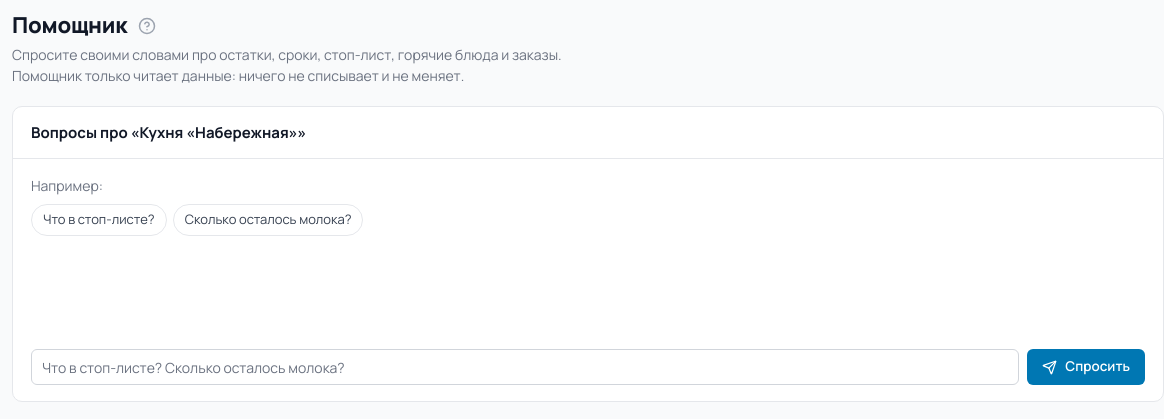
страница помощника › непонятый вопрос не помечается как разобранный
The width and height of the screenshot is (1164, 419).
In the field named "Вопрос помощнику": point(525, 367) [31,349,1019,385], type "расскажи анекдот"
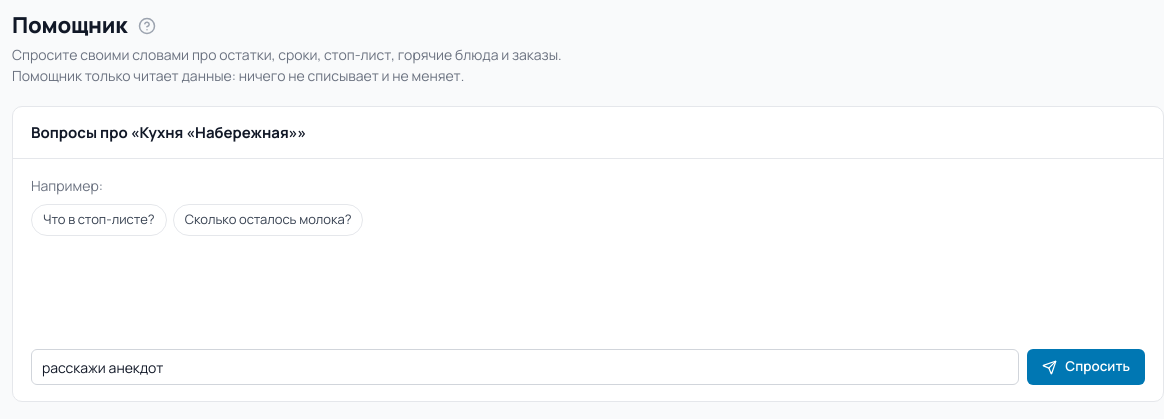
Click the button "Спросить": point(1086, 367) [1027,349,1145,385]
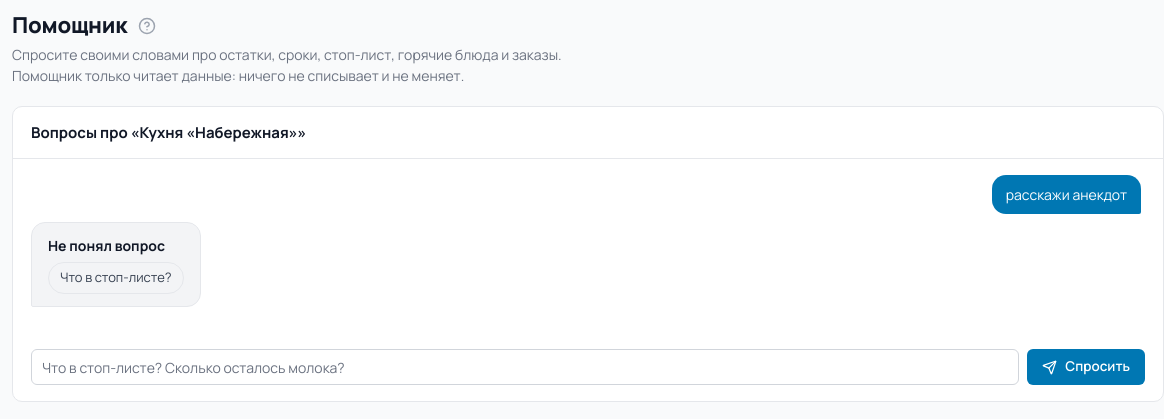
Check: the text "Не понял вопрос" is shown, box [48,235,165,256]
